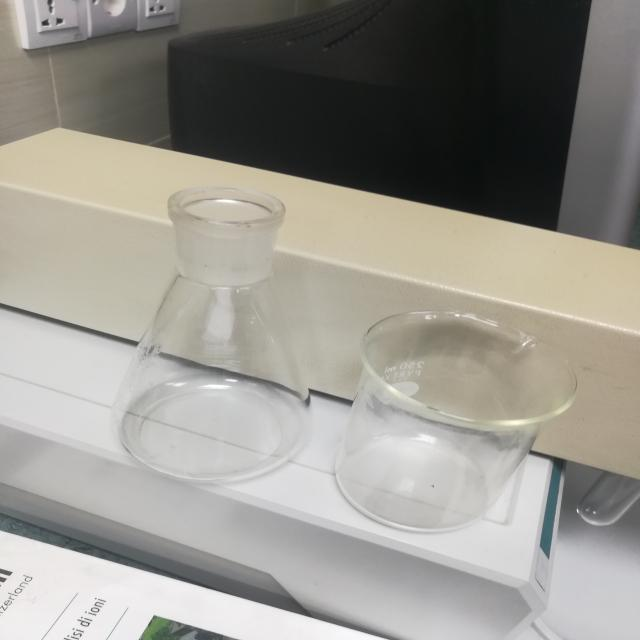Beaker: (334, 305, 571, 547)
Conical_Flask: (95, 167, 323, 502)
